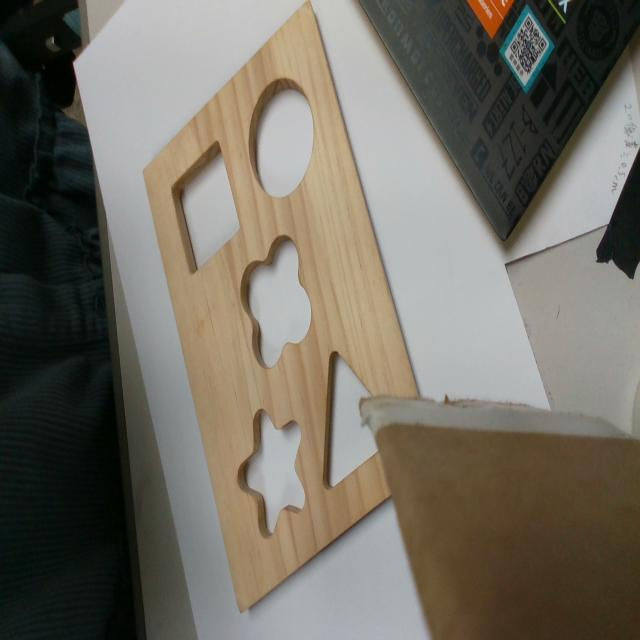circle: (249, 79, 314, 198)
flower: (238, 236, 312, 367)
square: (171, 138, 240, 274)
star: (238, 411, 306, 537)
triangle: (321, 347, 380, 490)
